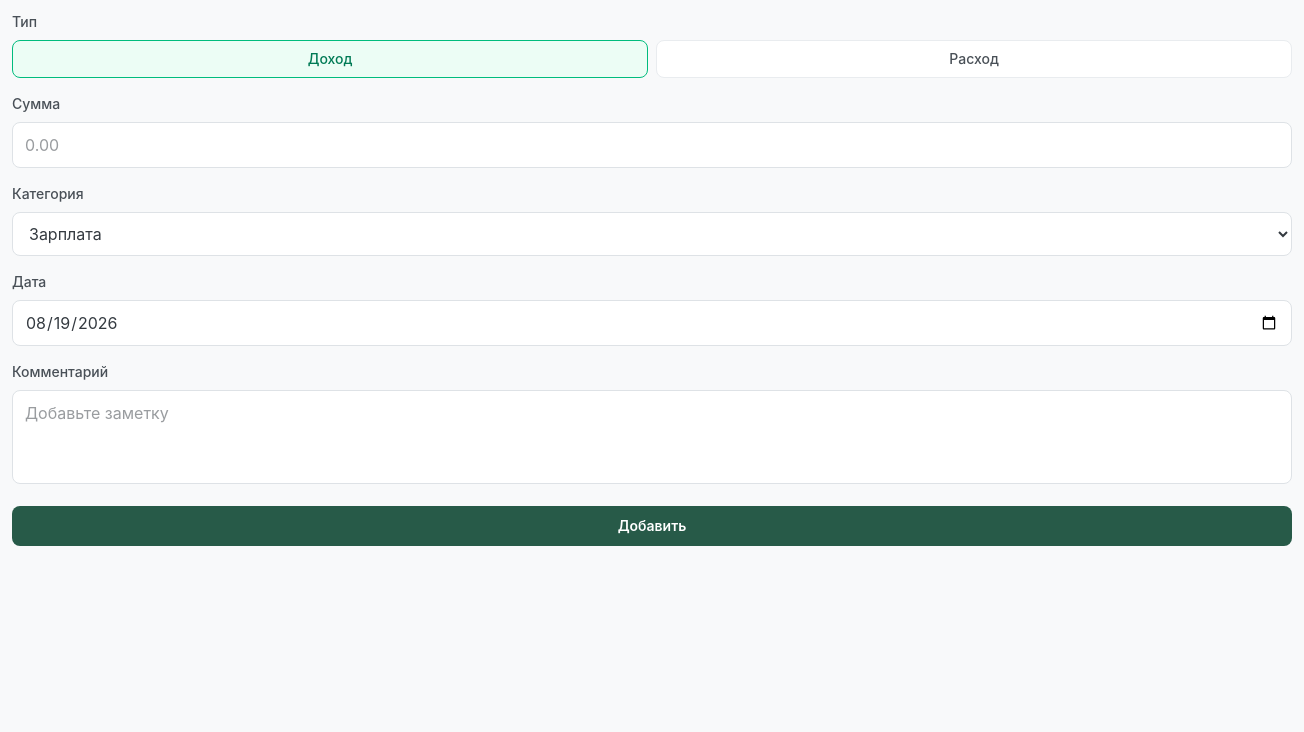
Scenario: TransactionForm › при валидном сабмите вызывается addTransaction с правильными данными
The width and height of the screenshot is (1304, 732).
In the number field labelled "Сумма": (652, 145) [12,122,1292,168], type "1500"
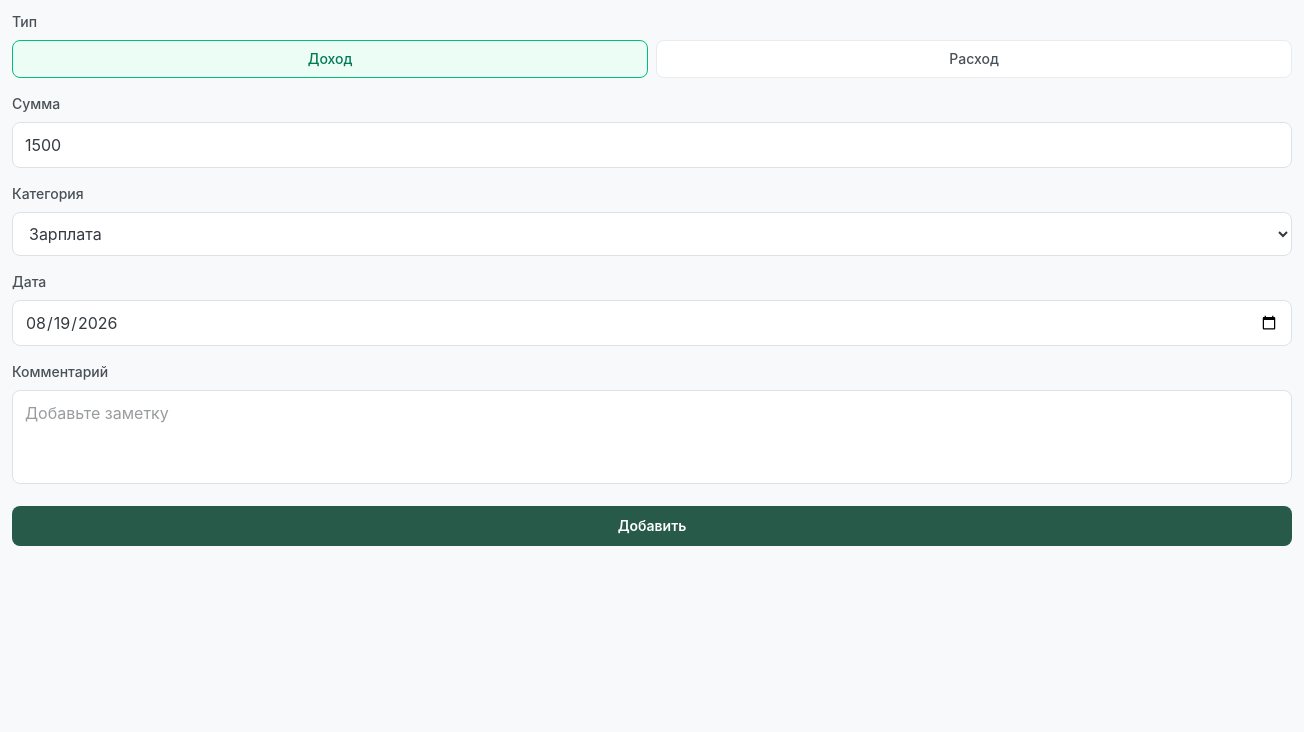
Select "Зарплата" in the dropdown labelled "Категория": (652, 234) [12,212,1292,256]
In the date field labelled "Дата": (652, 323) [12,300,1292,346], type "2026-08-14"
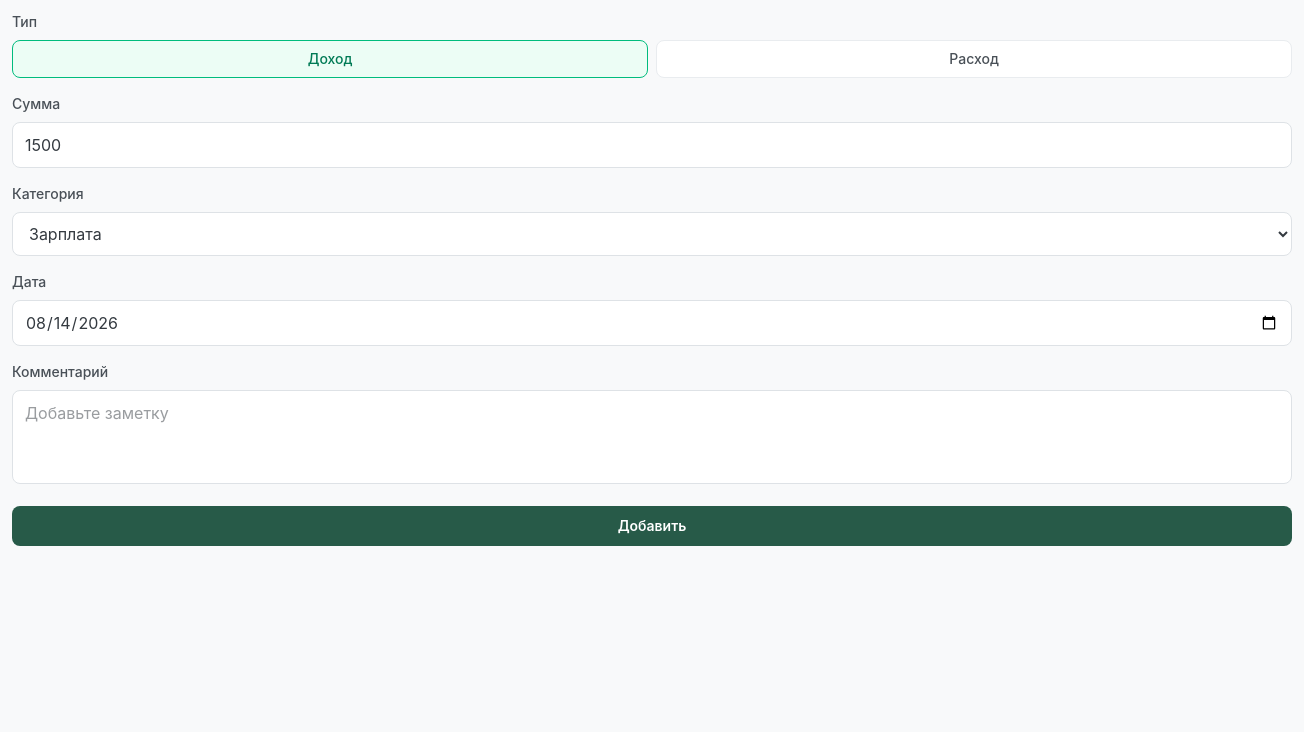
In the text box labelled "Комментарий": (652, 437) [12,390,1292,484], type "Премия"
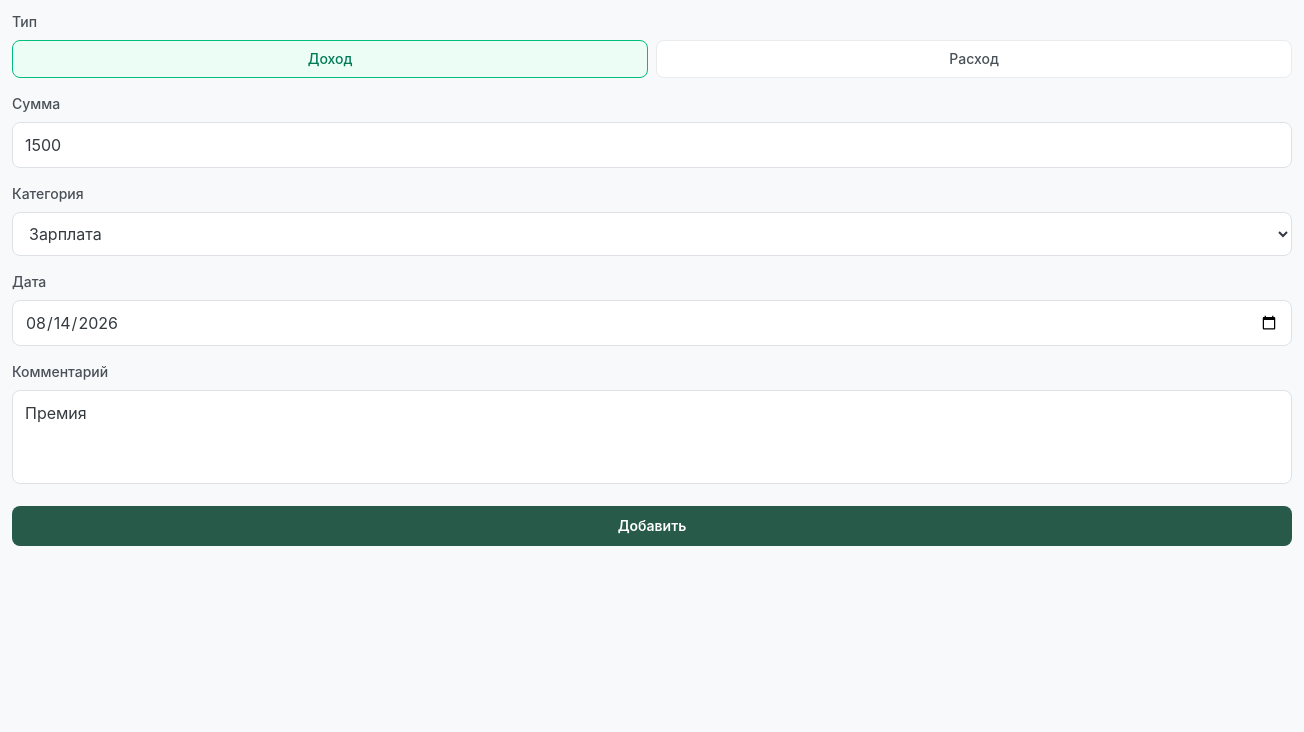
Click the button "Добавить": (652, 526) [12,506,1292,546]
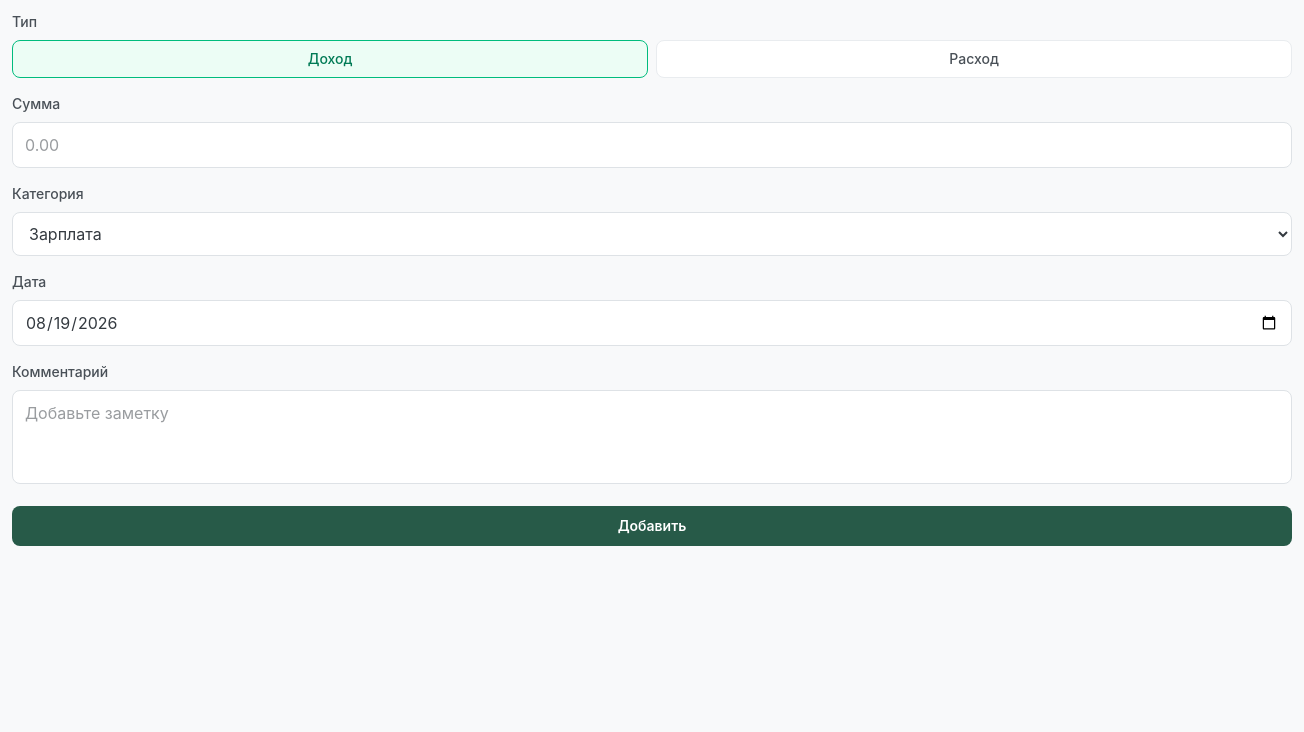
Expected: the number field labelled "Сумма" is not empty, [12,122,1292,168]
